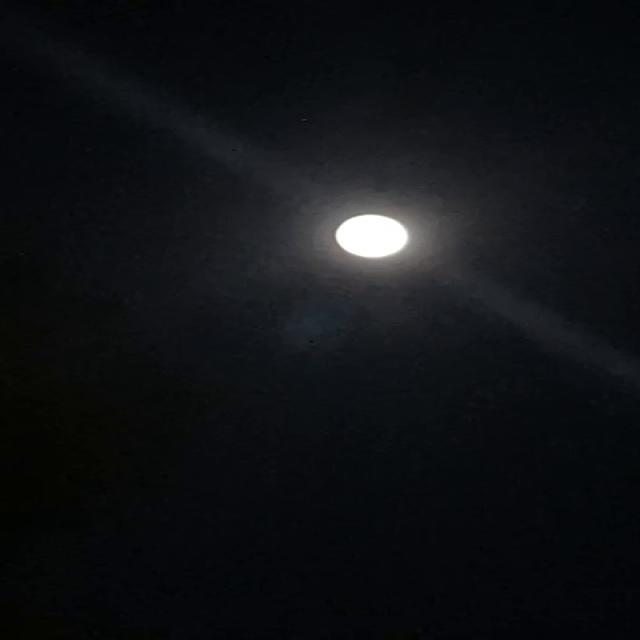moon: (314, 210, 430, 268)
